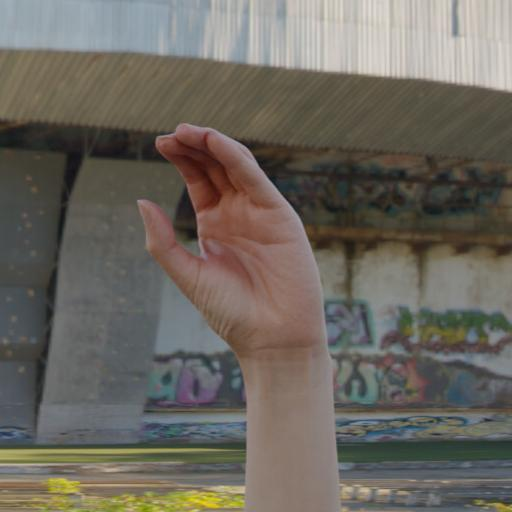C: (134, 118, 329, 350)
